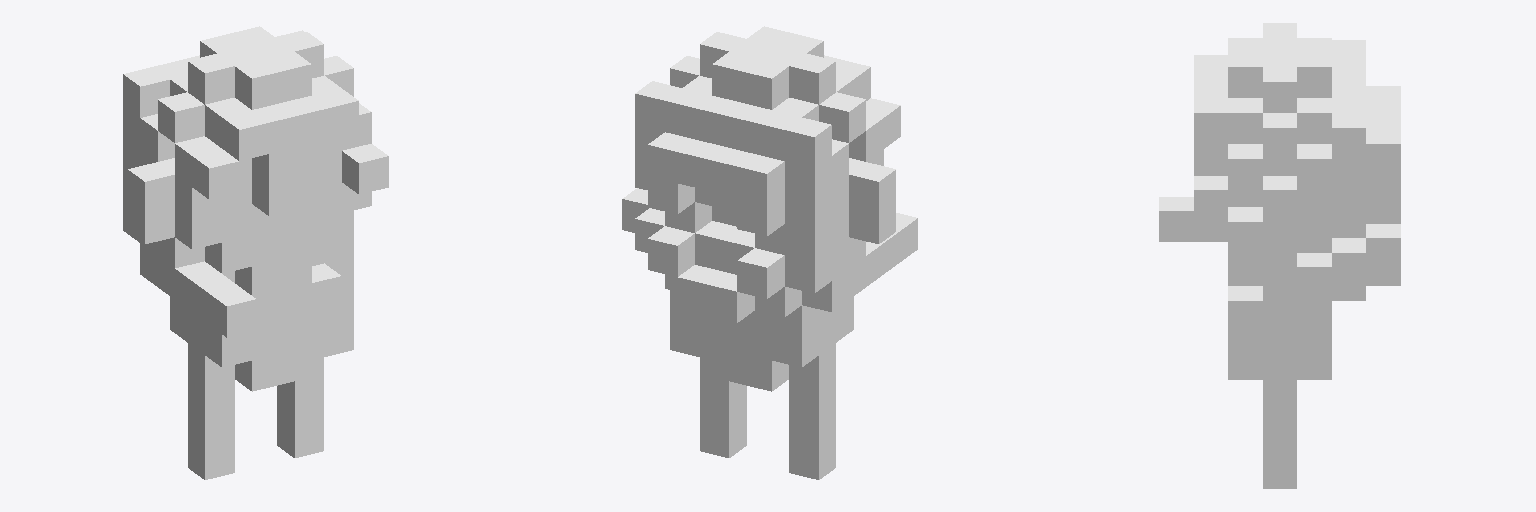
File: player_arm.obj
3 renders of one model, left to right at view 1: azimuth 30°, elevation 25°; view 2: azimuth 150°, elevation 25°; view 3: azimuth 270°, elevation 25°, orthographic.
Visible parts, largest first — view 1: object 1; view 2: object 1; view 3: object 1.
Part boxes in pixels (x1,y1,x2,y2): object 1: (123,26,388,479); object 1: (622,26,917,479); object 1: (1159,23,1400,488).
Size of the model in its own units: 0.8 by 1.3 by 0.7.